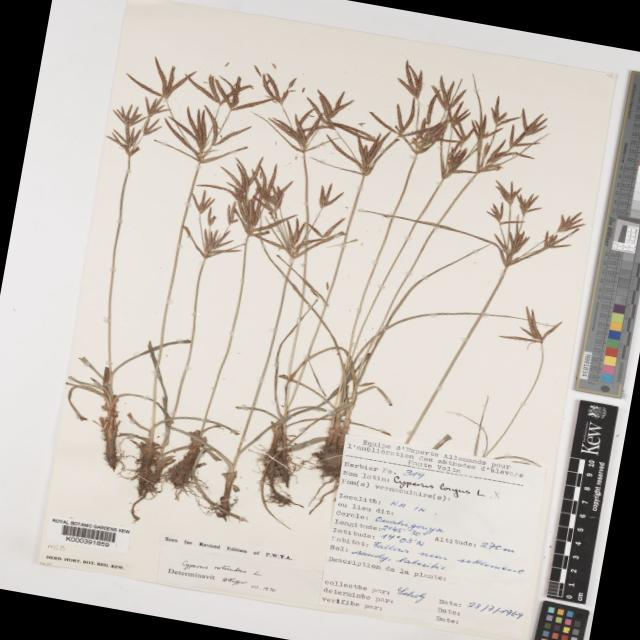cyperus: (170, 155, 358, 279), (372, 58, 538, 188), (104, 46, 254, 170), (238, 53, 394, 165), (466, 172, 588, 276), (506, 304, 570, 362)
